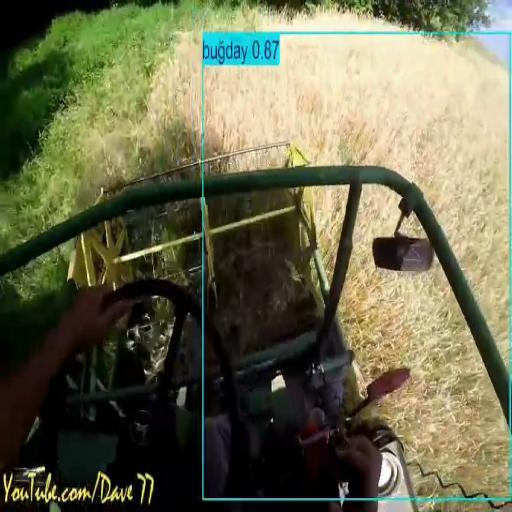bugday: (205, 33, 510, 360), (340, 186, 507, 493), (62, 36, 200, 180)
